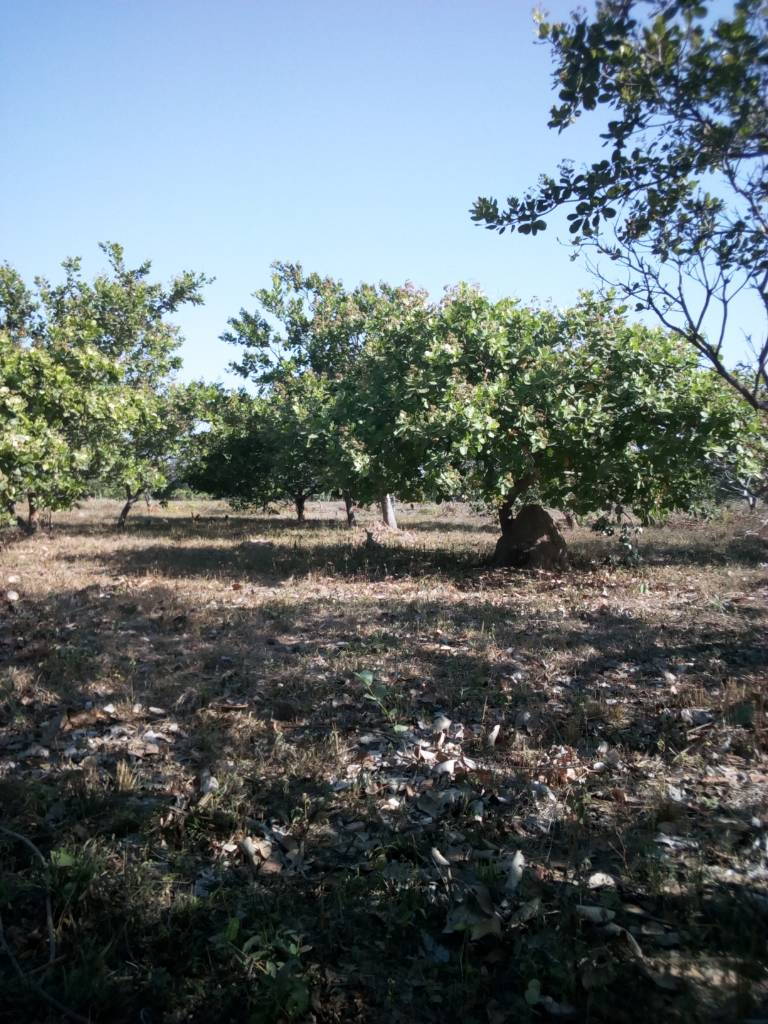Termites: (508, 503, 569, 567)
